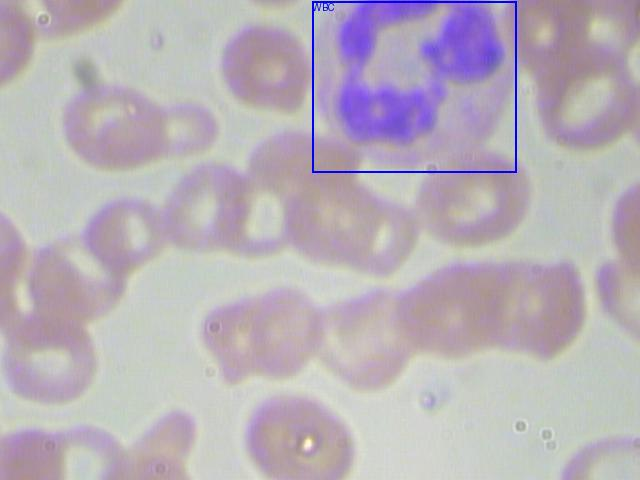WBC: (312, 1, 516, 172)
